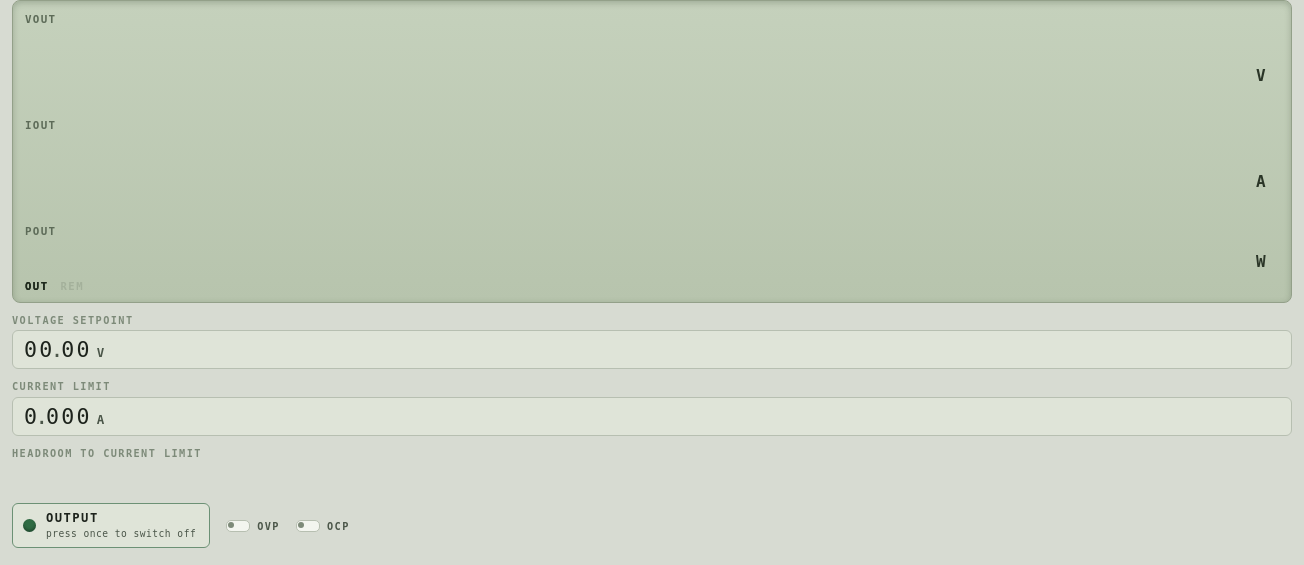
Test: recordable readings › PSU: Shift+F10 opens the menu; a refused request shows why
Press F10 in the element named "Tenma · IOUT", box [25,117,1279,215]
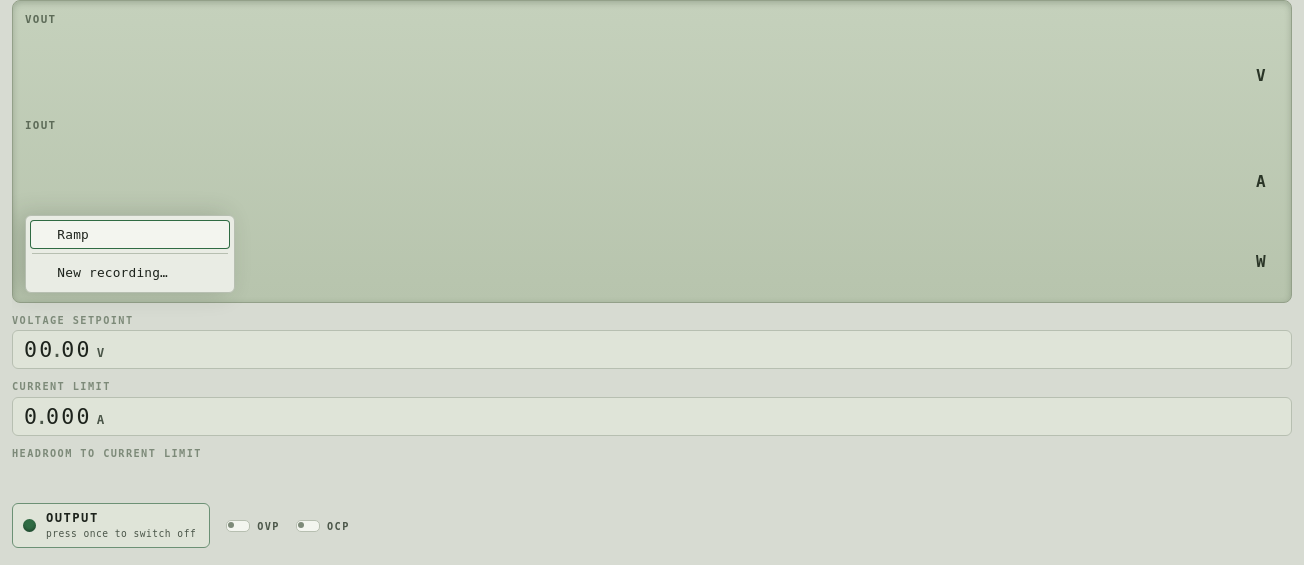
Result: the menu item "Ramp" is shown
Click the menu item "Ramp" at (130, 235), box [30,220,230,249]
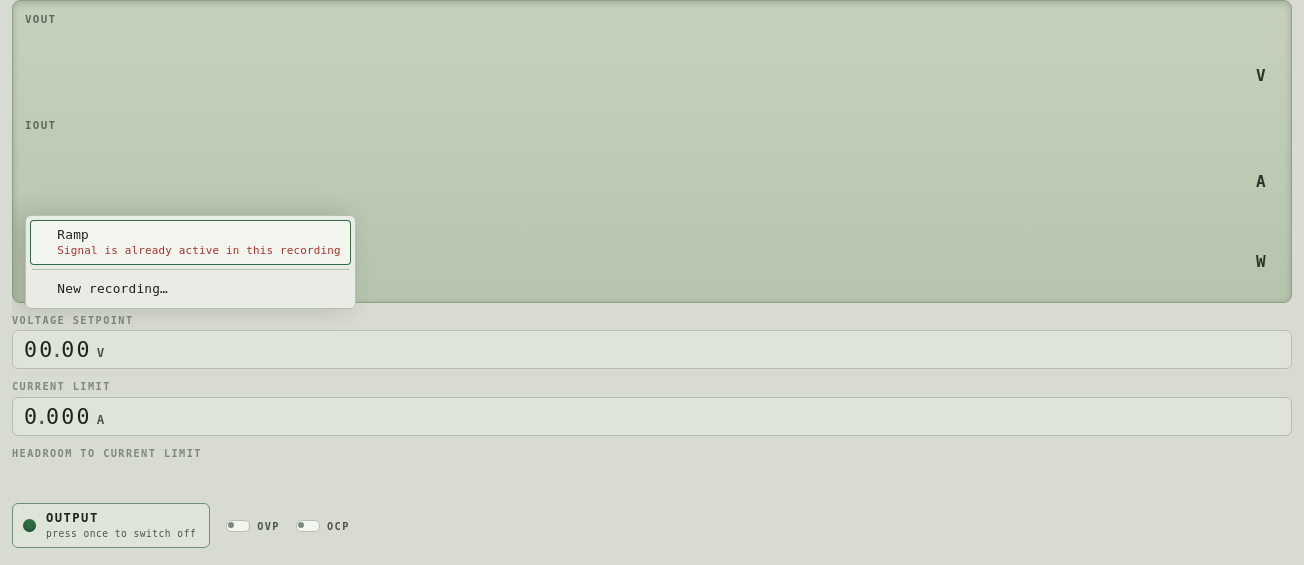
Result: the message shows "Signal is already active" at [57,244,341,257]
